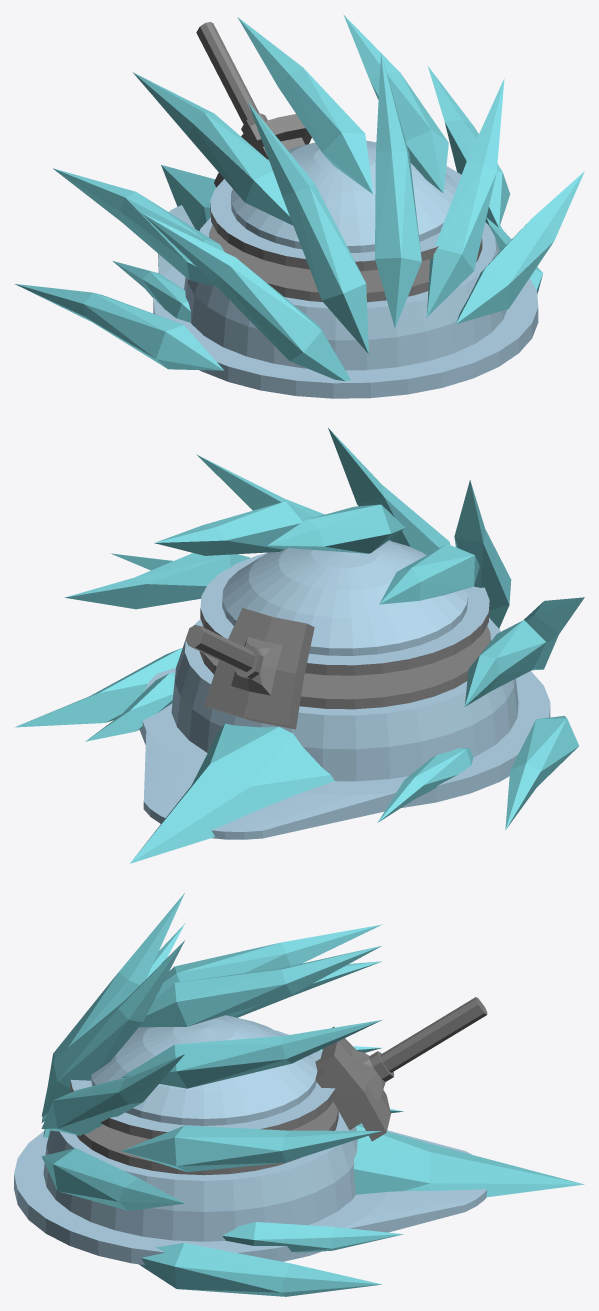
File: tower1.fbx
The picture shows the model from 3 angles, top to bottom: view 1: azimuth 30°, elevation 25°; view 2: azimuth 150°, elevation 25°; view 3: azimuth 270°, elevation 25°; orthographic projection. The views are drawn at different scales.
Visible parts, largest first — view 1: IceShards, Base, BaseMetal, Cannon; view 2: Base, IceShards, Cannon, BaseMetal; view 3: IceShards, Base, Cannon, BaseMetal.
Boxes of the visible parts, left/top/right/bottom form: IceShards: left=15, top=14, right=584, bottom=381; Base: left=153, top=140, right=538, bottom=398; BaseMetal: left=209, top=203, right=482, bottom=302; Cannon: left=196, top=22, right=311, bottom=187; Base: left=139, top=540, right=550, bottom=839; IceShards: left=15, top=428, right=584, bottom=863; Cannon: left=185, top=608, right=314, bottom=729; BaseMetal: left=199, top=603, right=490, bottom=709; IceShards: left=41, top=893, right=584, bottom=1296; Base: left=14, top=1015, right=487, bottom=1264; Cannon: left=315, top=997, right=487, bottom=1141; BaseMetal: left=70, top=1081, right=338, bottom=1175.
Bounding box in the file's own units: 334 × 191 × 356.
